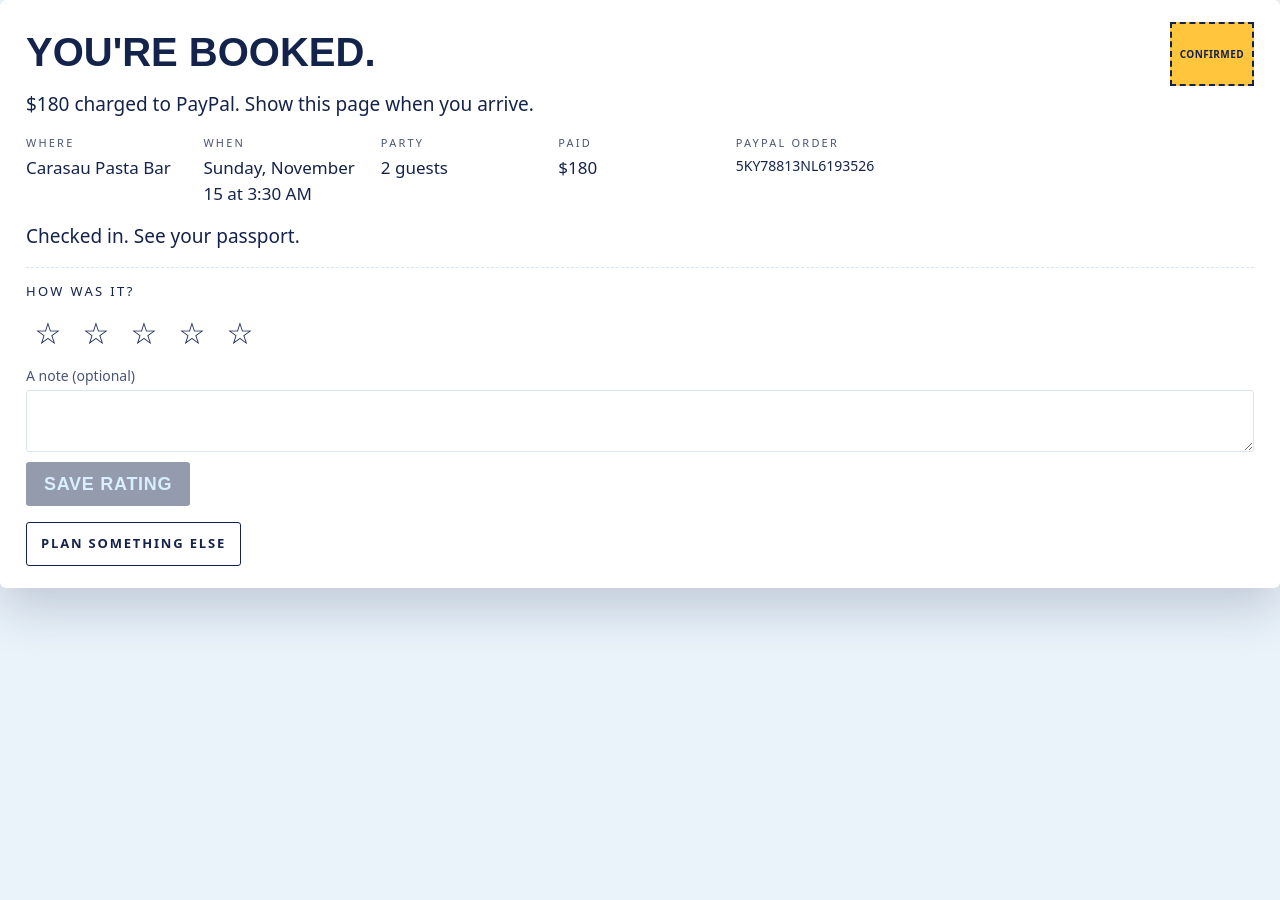
it: BookingStatus › rating a visit › after check-in: pick stars, add a note, save; then it shows what you gave
expect the button "Save rating" is disabled: met, box [26, 462, 190, 506]
Click the button named "4 stars". click: click(192, 333)
box: [170, 311, 214, 355]
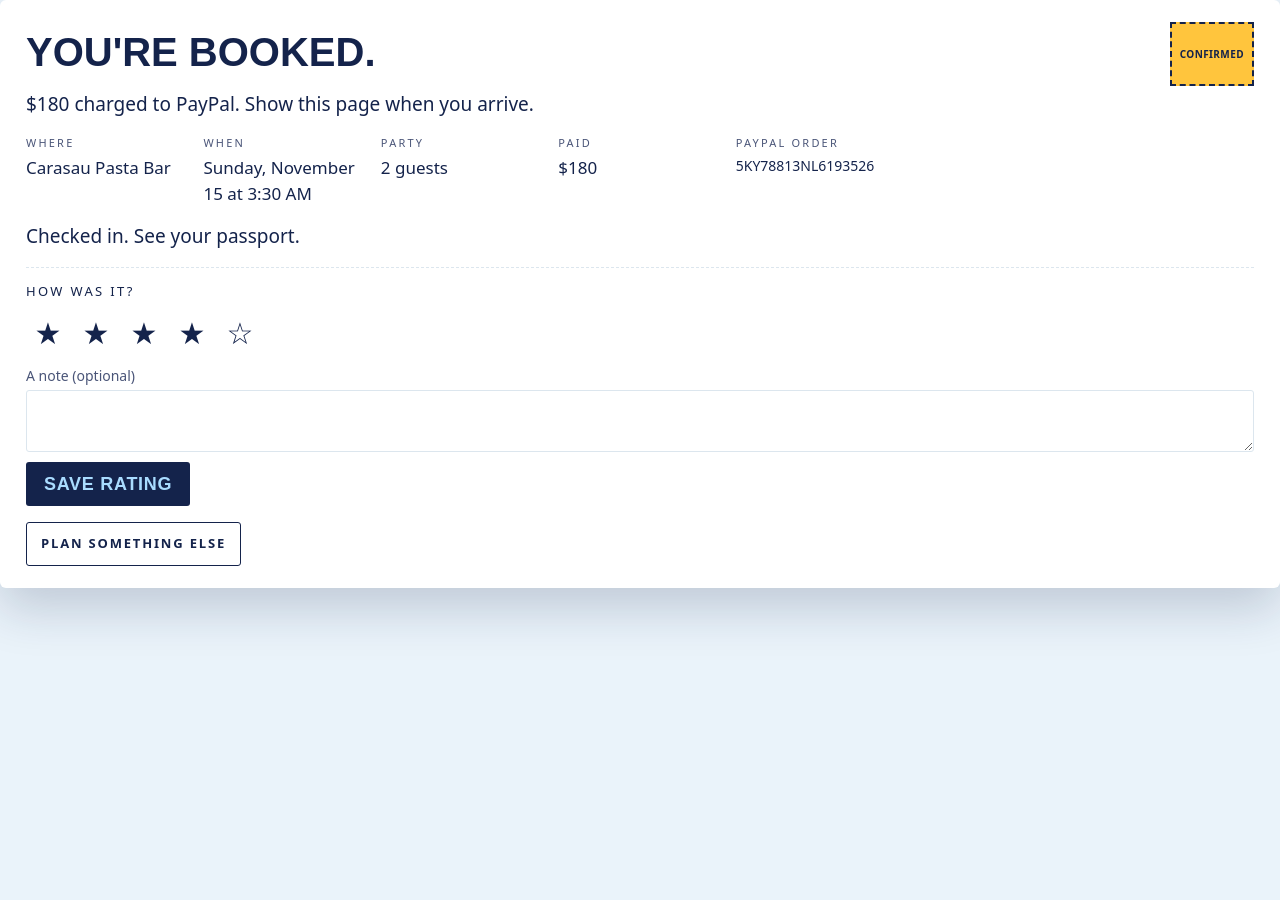
expect the number of buttons "★" is 4: met, box [26, 311, 70, 355]; [74, 311, 118, 355]; [122, 311, 166, 355]; [170, 311, 214, 355]
expect the button named "4 stars" is pressed: met, box [170, 311, 214, 355]
Type "Great tub" into the text box labelled "A note (optional)". click: (640, 421)
box: [26, 390, 1254, 452]
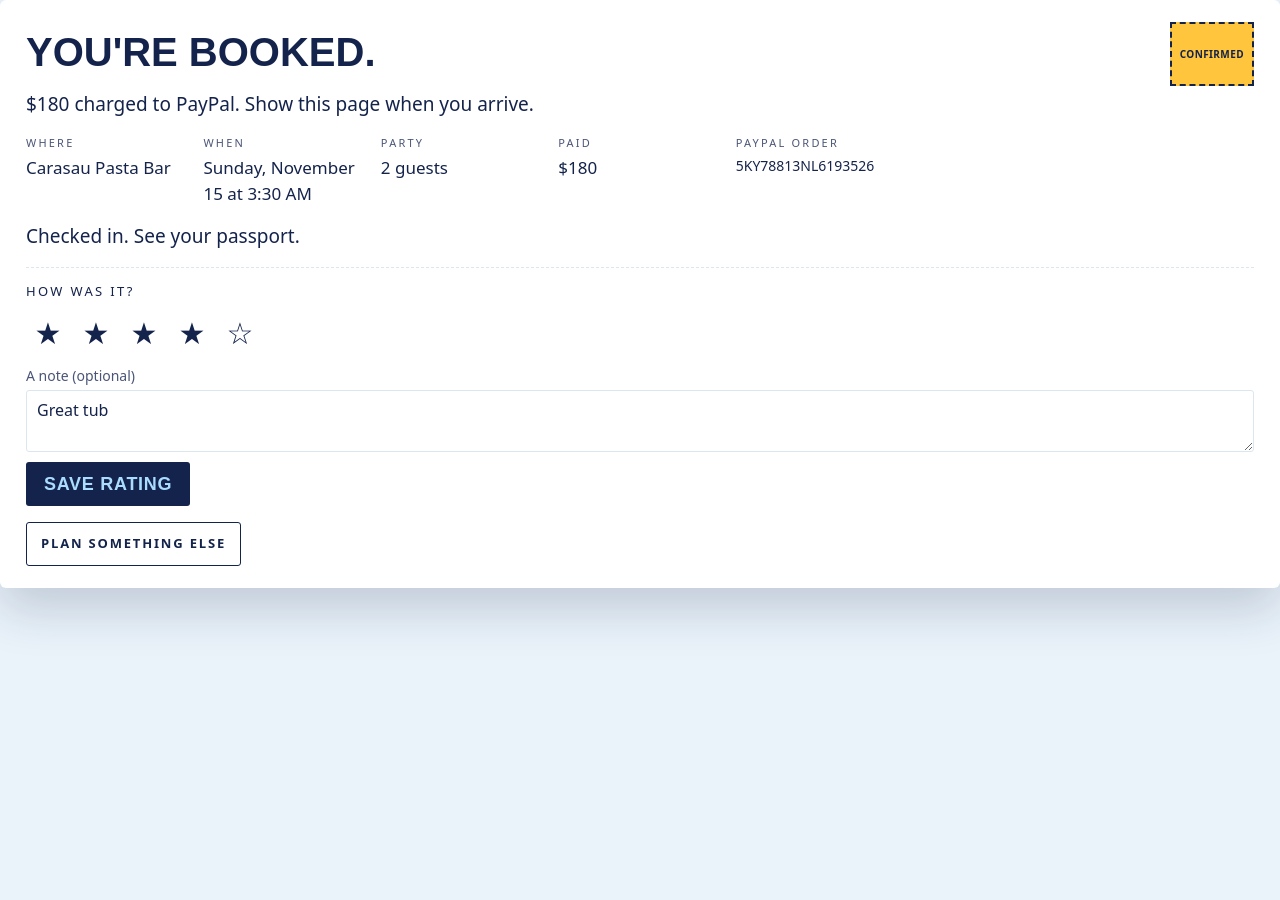
Click the button "Save rating". click: click(108, 484)
box: [26, 462, 190, 506]
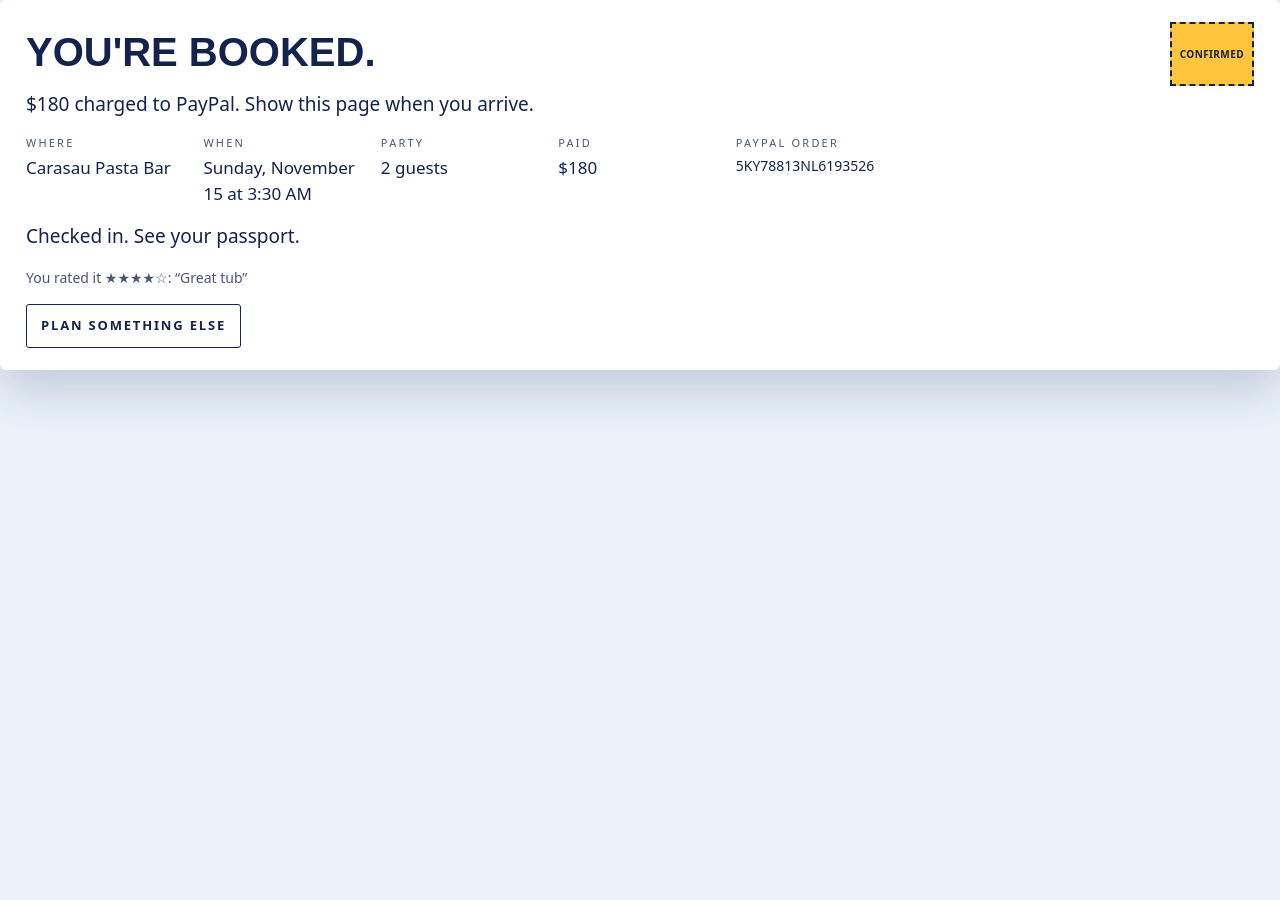
expect the text named "Your rating" reads "You rated it ★★★★☆: “Great tub”": met, box [26, 268, 247, 286]
